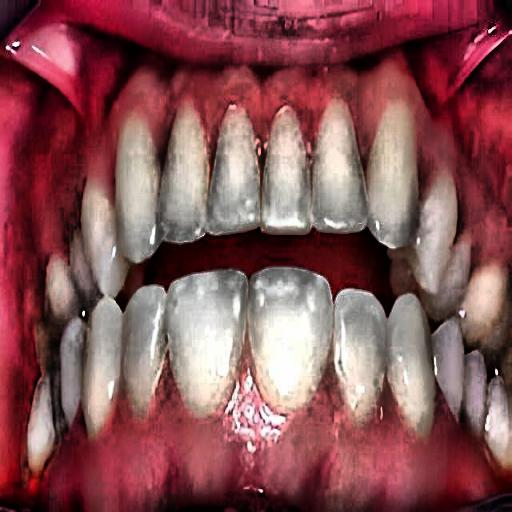Healthy: (68, 88, 442, 411)
